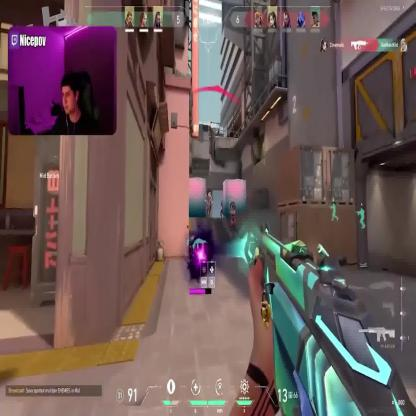enemy: (229, 200, 237, 232), (205, 189, 213, 219), (220, 199, 226, 219)
enemy_head: (230, 202, 236, 211), (209, 188, 212, 196), (221, 200, 224, 206)
